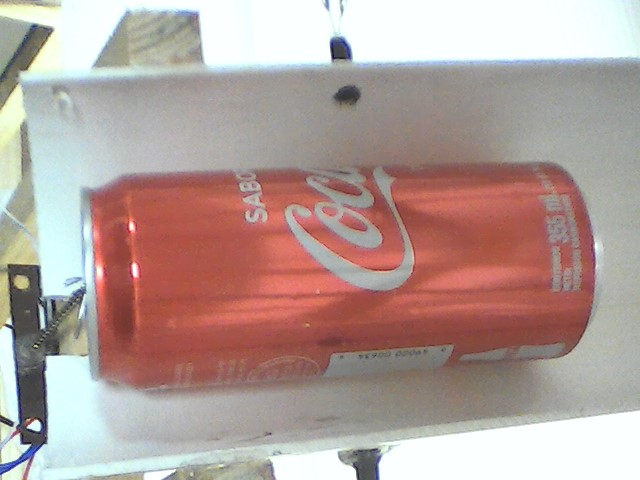lata: (71, 158, 607, 393)
